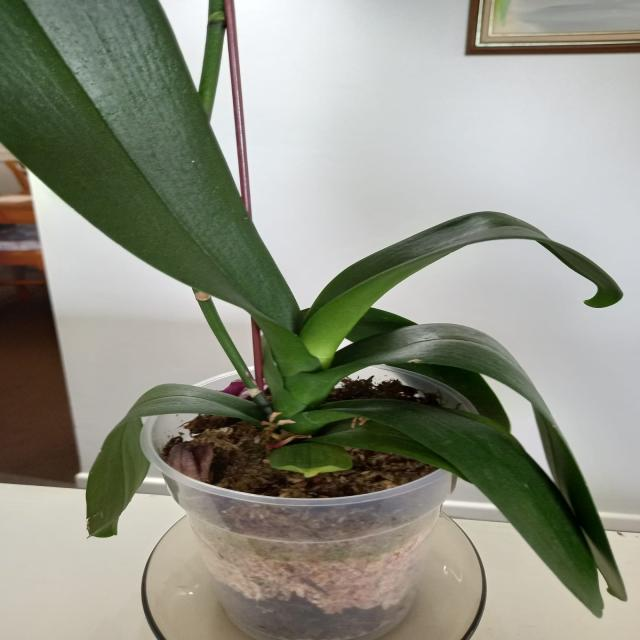leaf: (0, 1, 298, 319), (309, 399, 596, 611), (302, 211, 620, 355), (88, 383, 260, 534), (318, 323, 541, 407), (269, 442, 352, 477)
plant: (1, 1, 635, 636)
pot: (129, 374, 484, 637)
